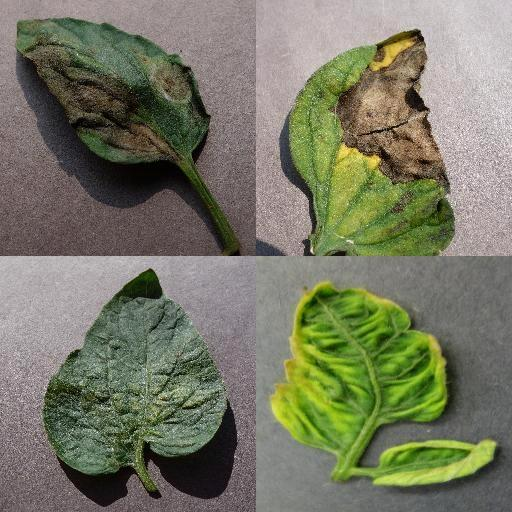Late Blight: (288, 28, 456, 256), (16, 14, 212, 166)
Spider Mites: (42, 267, 228, 475)
Yellow Leaf Curl Virus: (272, 278, 446, 454), (372, 439, 501, 489)
